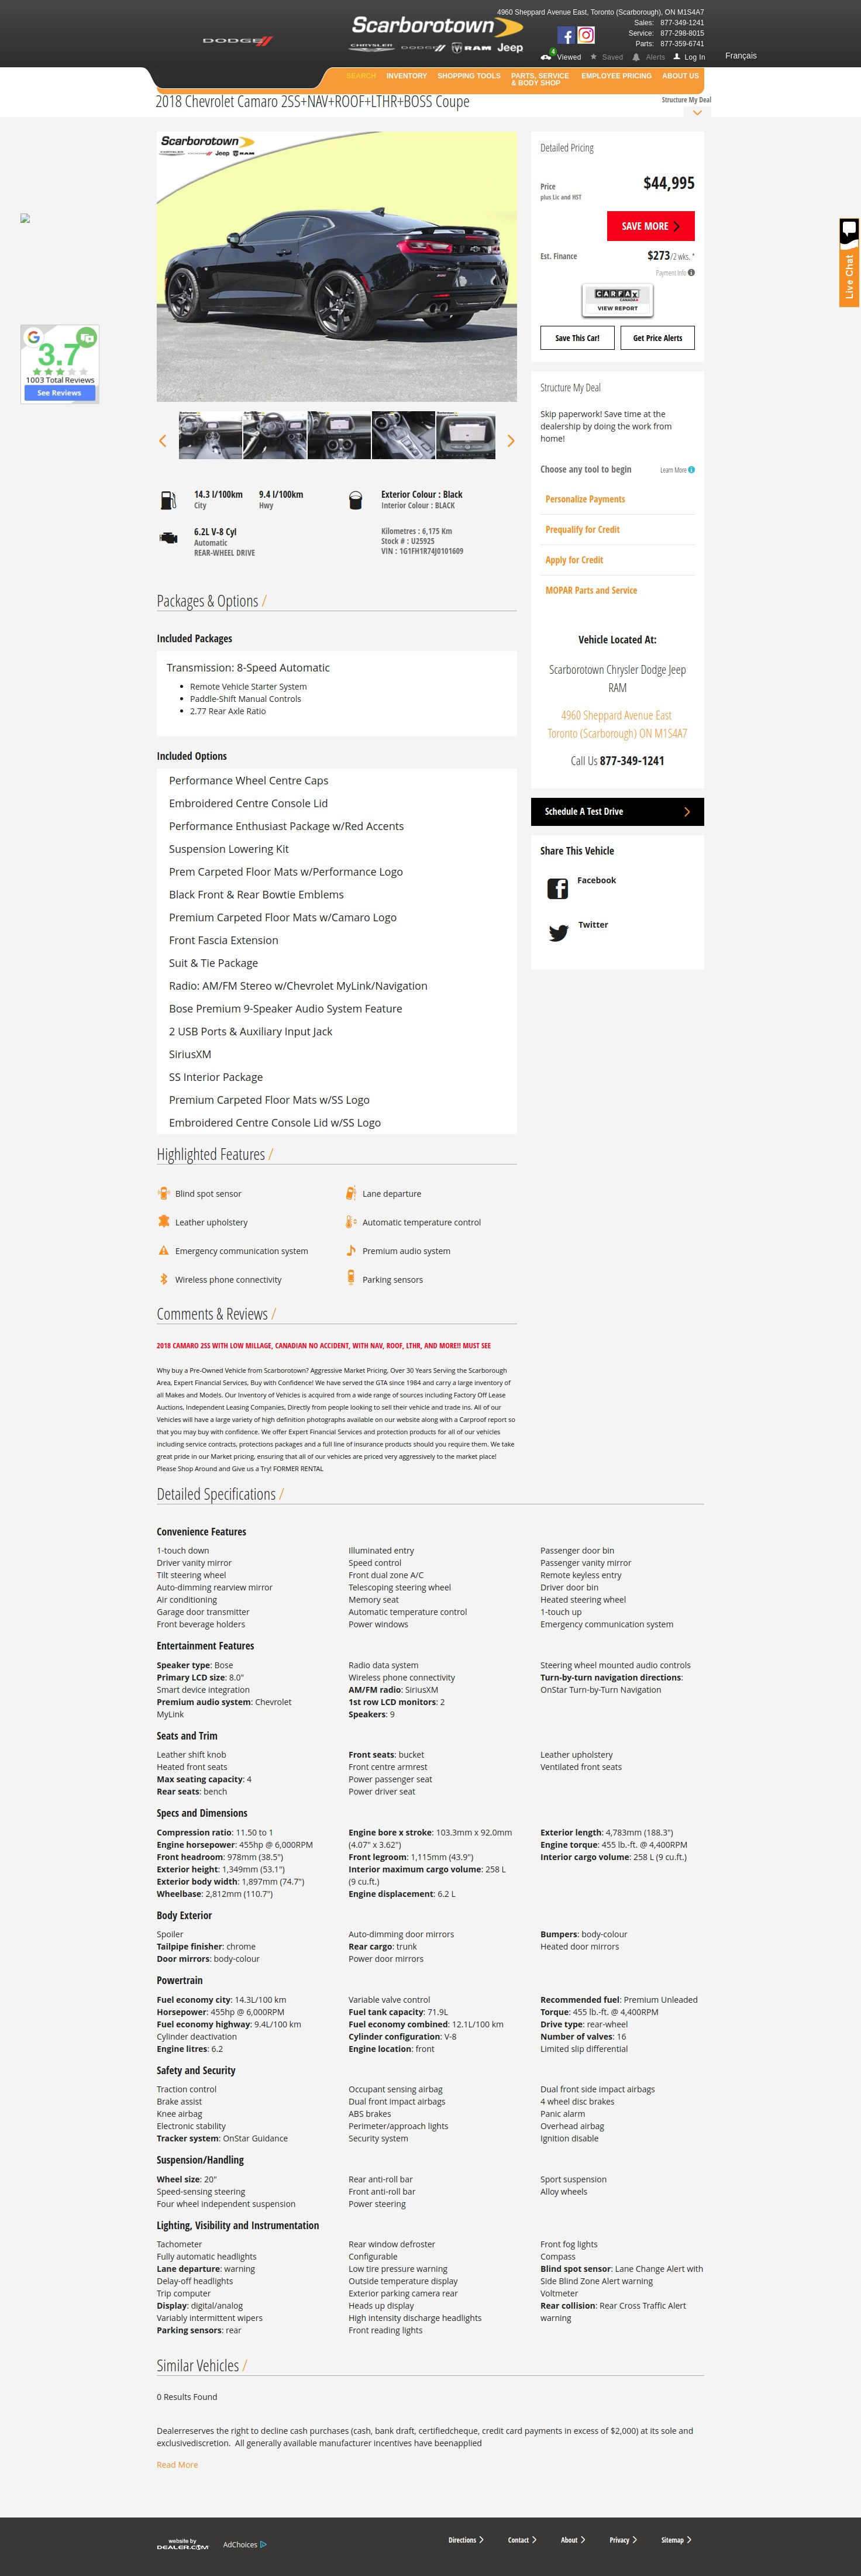car: (508, 435, 516, 448)
